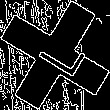L_NW: (25, 29, 85, 81)
